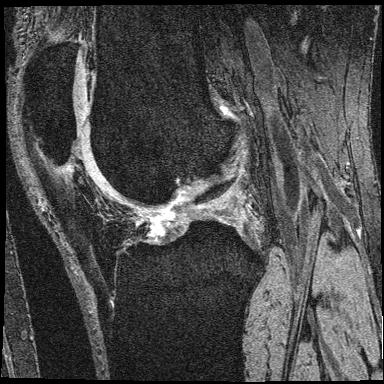SagKneeJointArea: (22, 41, 267, 311)
